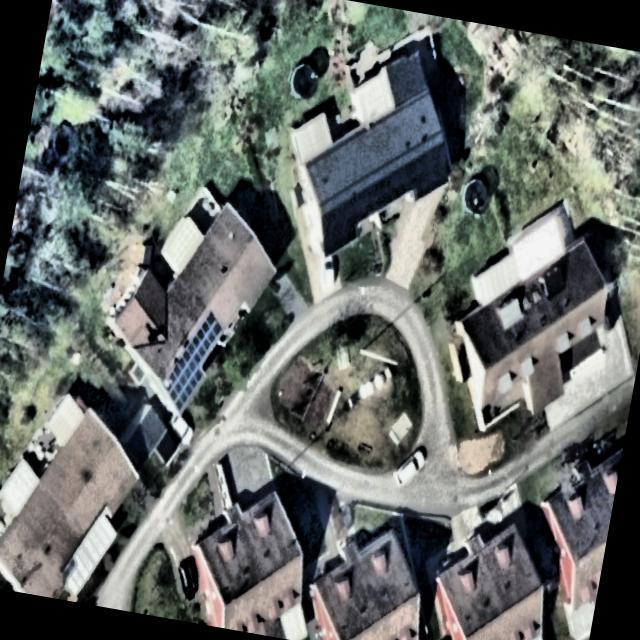roof_pv: (314, 184, 366, 262), (160, 344, 207, 413), (408, 140, 454, 207), (189, 308, 226, 354), (382, 159, 414, 210), (362, 175, 387, 218)
